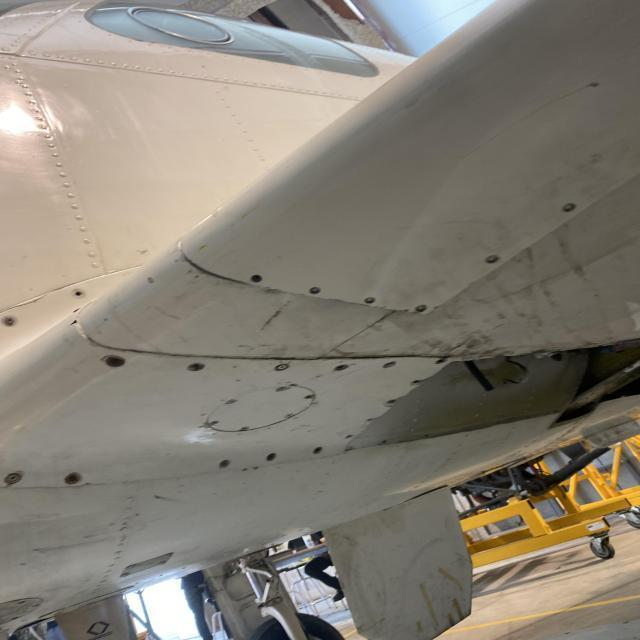Fastener Damage: (557, 200, 583, 216), (102, 354, 128, 368), (60, 472, 86, 484), (480, 252, 503, 265), (188, 360, 206, 374), (431, 356, 452, 366), (264, 452, 280, 464), (410, 377, 426, 388), (364, 294, 378, 306), (414, 304, 430, 314), (250, 273, 264, 284), (72, 288, 87, 298), (308, 284, 323, 294), (332, 364, 350, 372), (312, 447, 325, 455)
Rupture: (5, 280, 54, 312), (66, 318, 86, 328)
